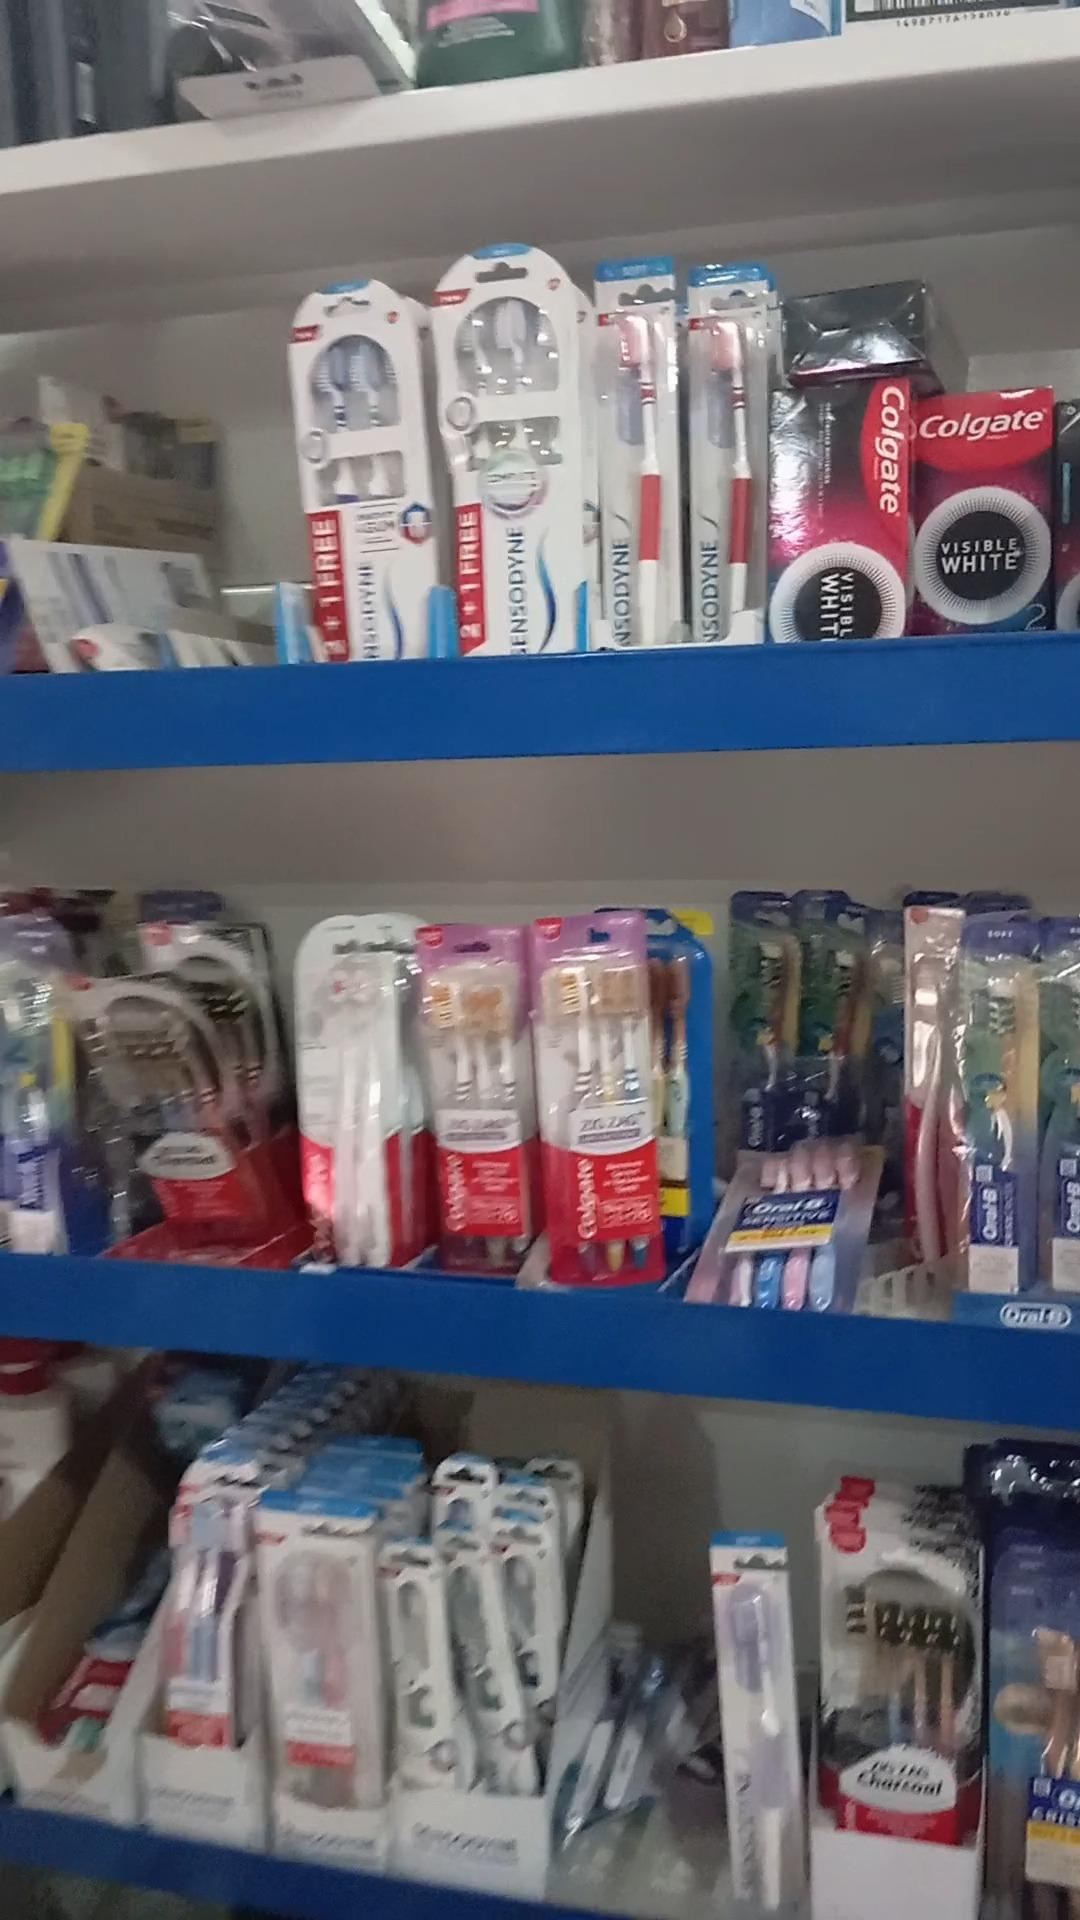16: (293, 276, 431, 658)
4: (442, 248, 589, 655)
6: (167, 1468, 247, 1747)
9: (964, 915, 1039, 1298), (0, 919, 70, 1253)
liquid soap: (828, 1530, 964, 1837), (78, 982, 231, 1233)
